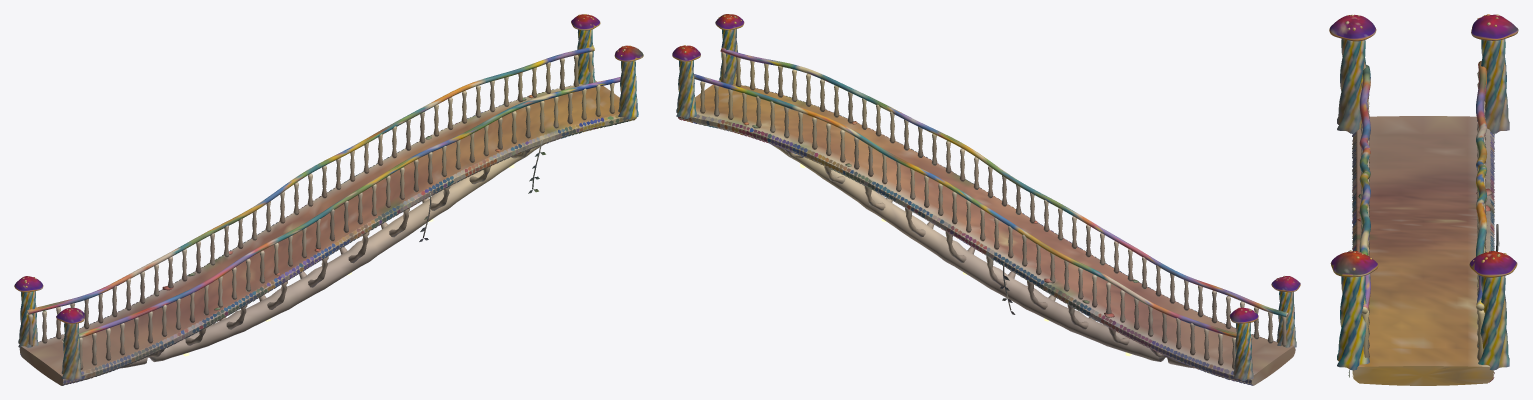
Rendered from kopru_gecit_20_kat.glb.
3 views of the same model, side by side, from view 1: azimuth 30°, elevation 25°; view 2: azimuth 150°, elevation 25°; view 3: azimuth 270°, elevation 25° (orthographic). The views are drawn at different scales.
Parts seen in each view (by area): view 1: kopru_gecit_20_kat_LOD0; view 2: kopru_gecit_20_kat_LOD0; view 3: kopru_gecit_20_kat_LOD0.
Boxes of the visible parts, x1,y1,x2,y2 form: kopru_gecit_20_kat_LOD0: (14, 14, 643, 385); kopru_gecit_20_kat_LOD0: (672, 14, 1300, 385); kopru_gecit_20_kat_LOD0: (1329, 14, 1518, 385).
Size of what is drawn, in the model's own units: 20.29 by 7.36 by 3.52.
